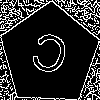C: (24, 30, 72, 86)
